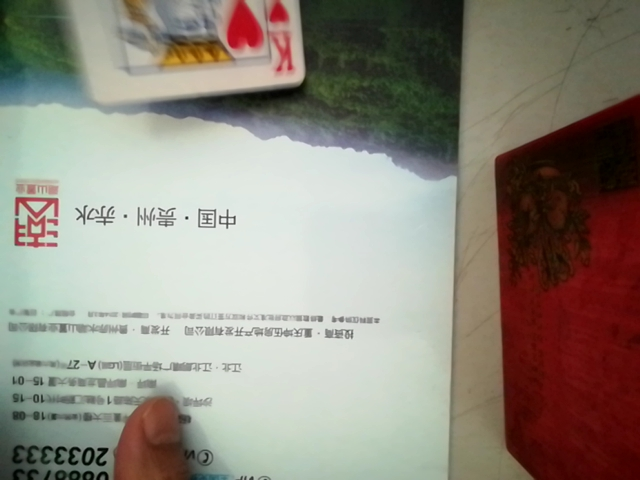hx k: (31, 0, 323, 103)
